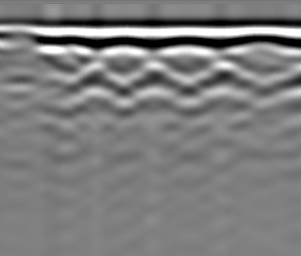pipe: (3, 26, 43, 51)
steel: (70, 69, 118, 108), (199, 66, 249, 102), (134, 69, 177, 104)
